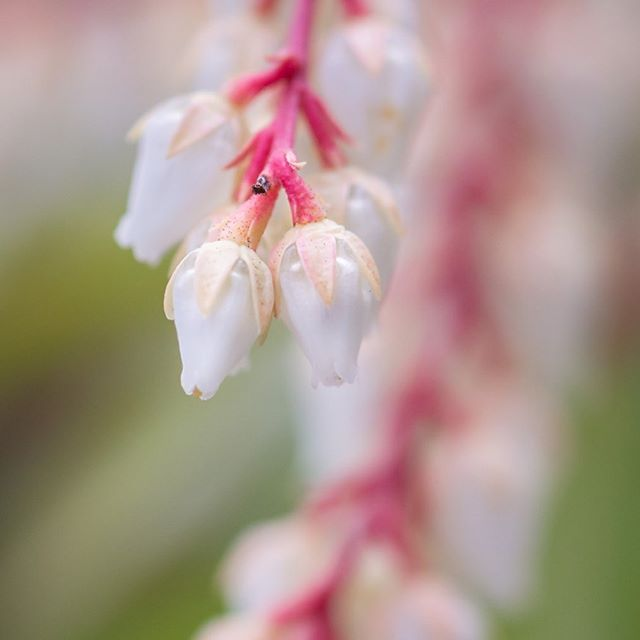flowers: (39, 1, 640, 640)
